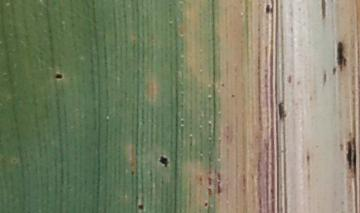tarspot: (156, 152, 171, 169), (52, 69, 66, 84), (134, 201, 149, 213)
